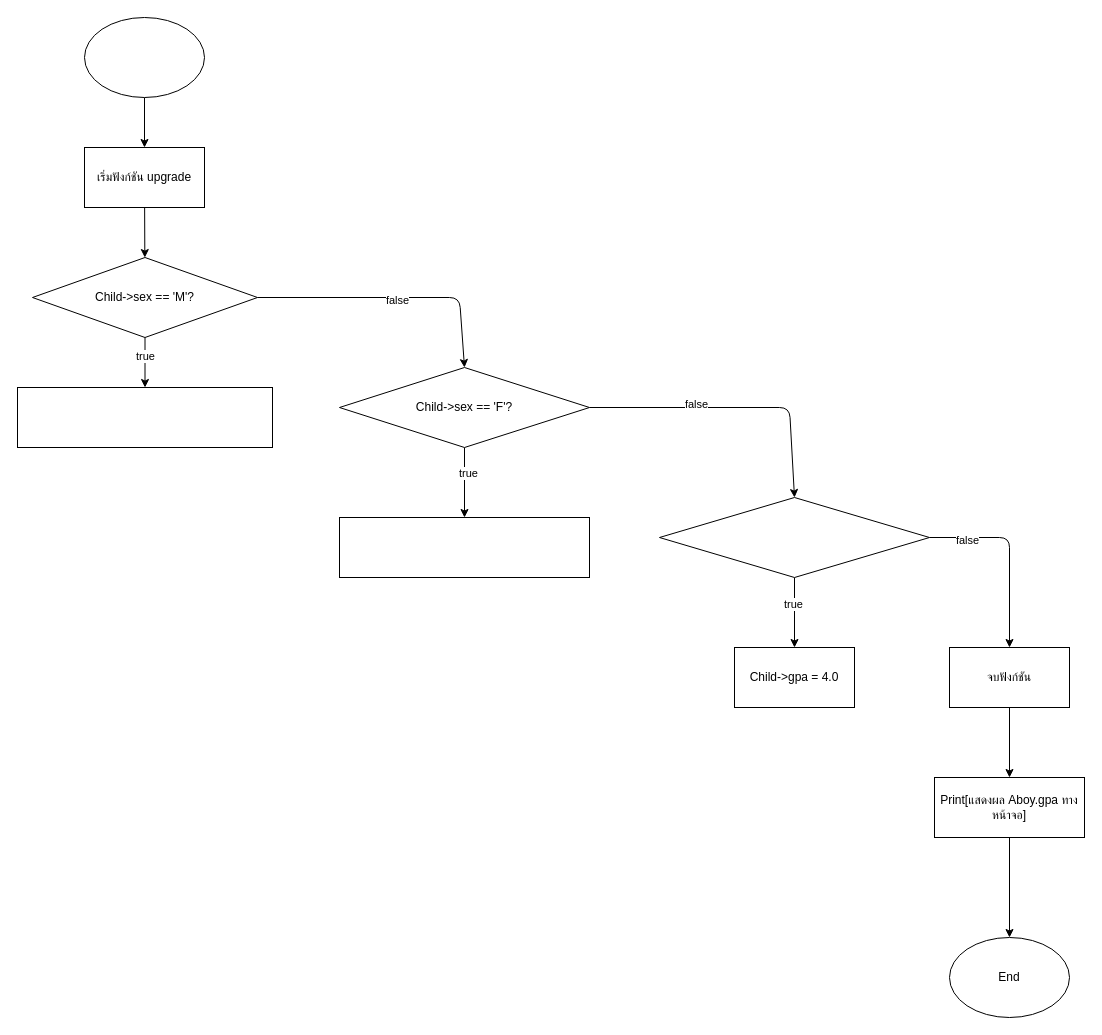
The diagram is 1102 pixels wide and 1035 high, and some of its shapes have lost their labels. Each missing label, with the centre of its shape:
"Child->gpa = Child->gpa * 1.10" belongs at point 144,417.
"Child->gpa = Child->gpa * 1.20" belongs at point 464,547.
"Child->gpa > 4.0?" belongs at point 794,537.
"start" belongs at point 144,57.
